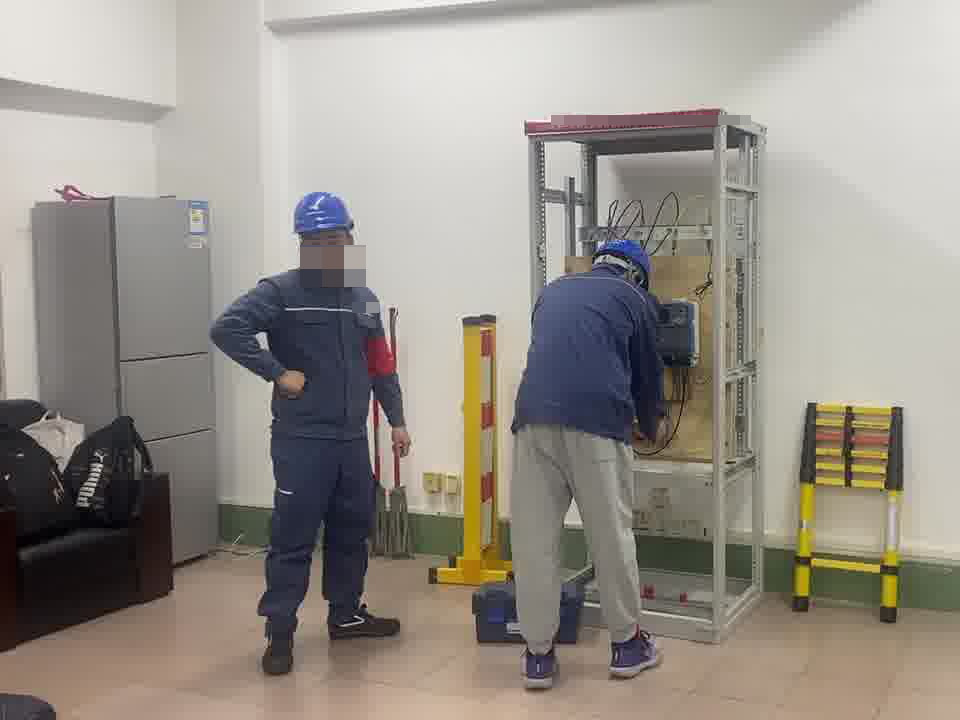badge: (364, 335, 397, 378)
downcloth: (513, 419, 641, 654)
downsuit: (257, 437, 380, 622)
halt: (290, 190, 360, 272), (591, 238, 656, 286)
hand: (279, 364, 306, 403), (388, 424, 411, 458)
person: (212, 190, 405, 677), (505, 236, 668, 692)
upsuit: (212, 267, 405, 437), (504, 270, 671, 448)
